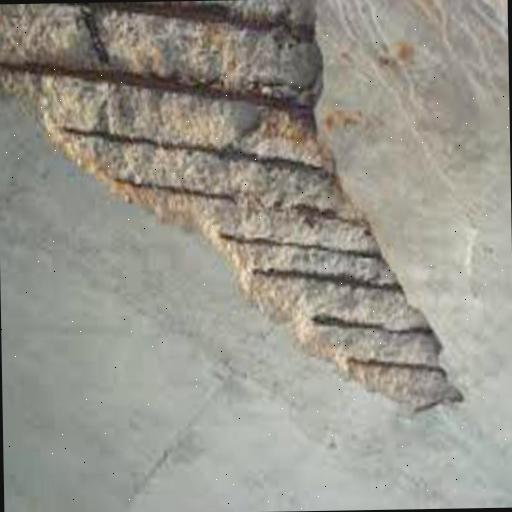spalling: (0, 1, 468, 421)
